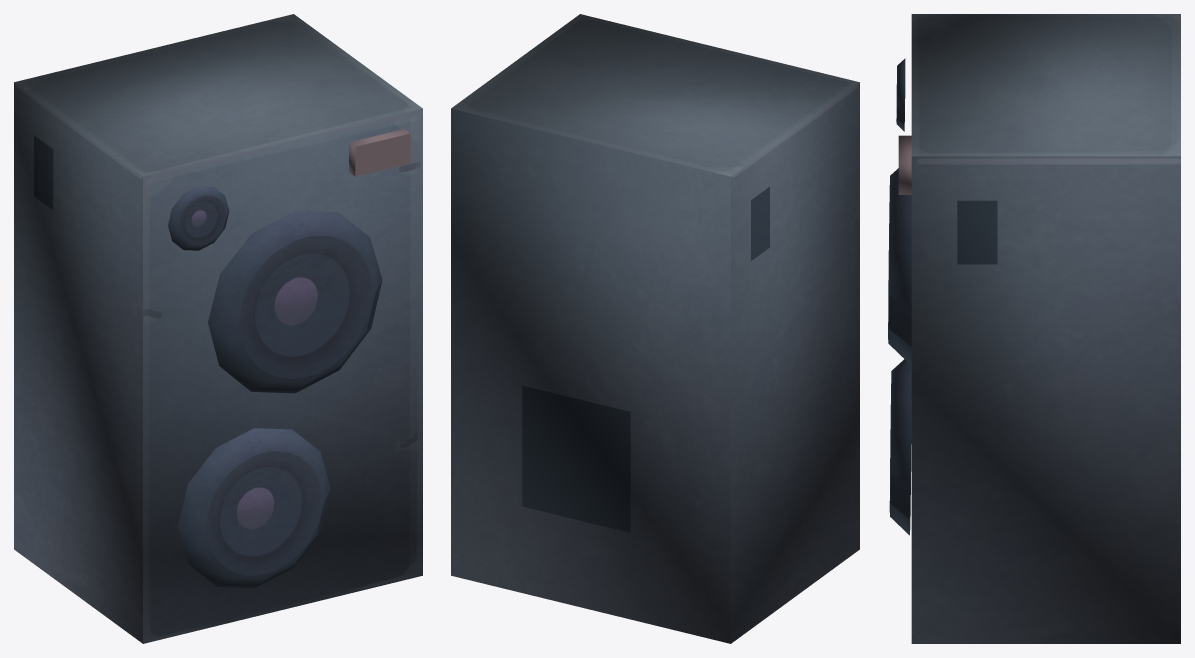
The model's file is galactic_speaker_02.fbx.
3 views of the same model, side by side, from view 1: azimuth 30°, elevation 25°; view 2: azimuth 150°, elevation 25°; view 3: azimuth 270°, elevation 25° (orthographic). The views are drawn at different scales.
Visible parts, largest first — view 1: speaker2; view 2: speaker2; view 3: speaker2.
Boxes of the visible parts, <box> form: speaker2: <box>14,14,422,643</box>; speaker2: <box>451,14,859,643</box>; speaker2: <box>888,14,1180,643</box>.
Bounding box in the file's own units: 0.01 × 0.016 × 0.00869.
